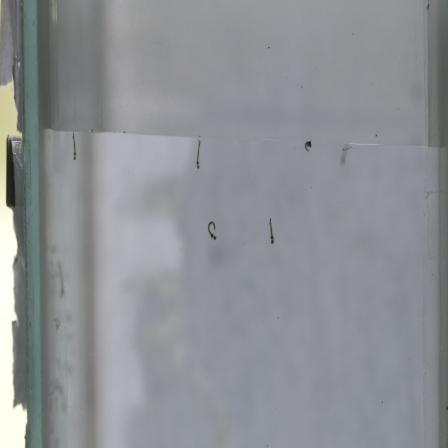Jentik-Nyamuk: (192, 135, 207, 173), (203, 216, 223, 243), (68, 129, 82, 165), (265, 214, 278, 249), (302, 137, 316, 156)
